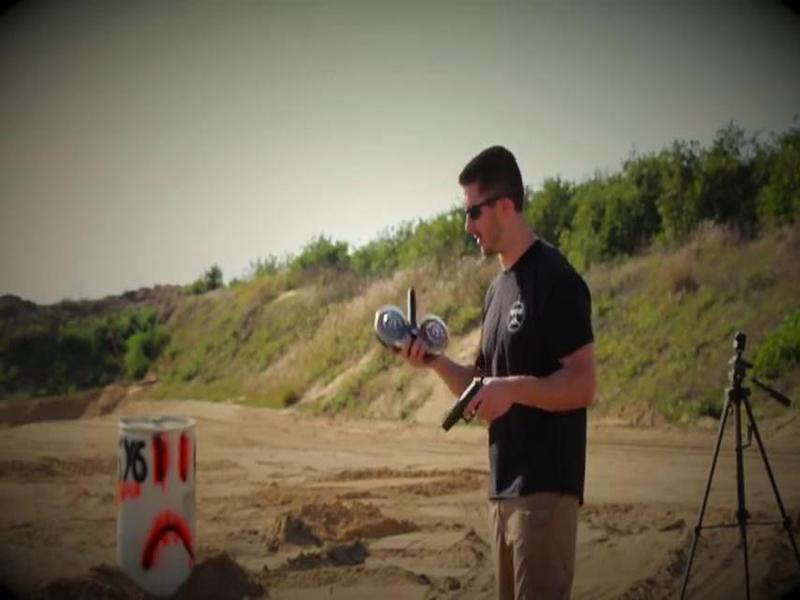Pistola: (431, 372, 500, 443)
